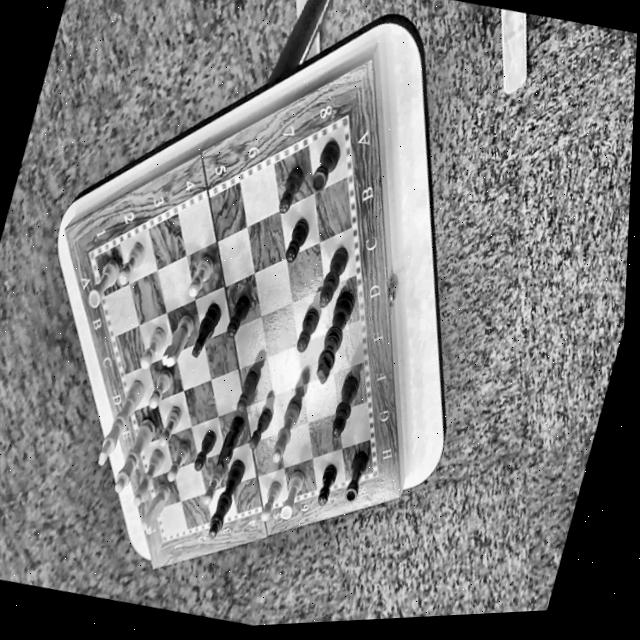chessboard: (93, 129, 370, 537)
